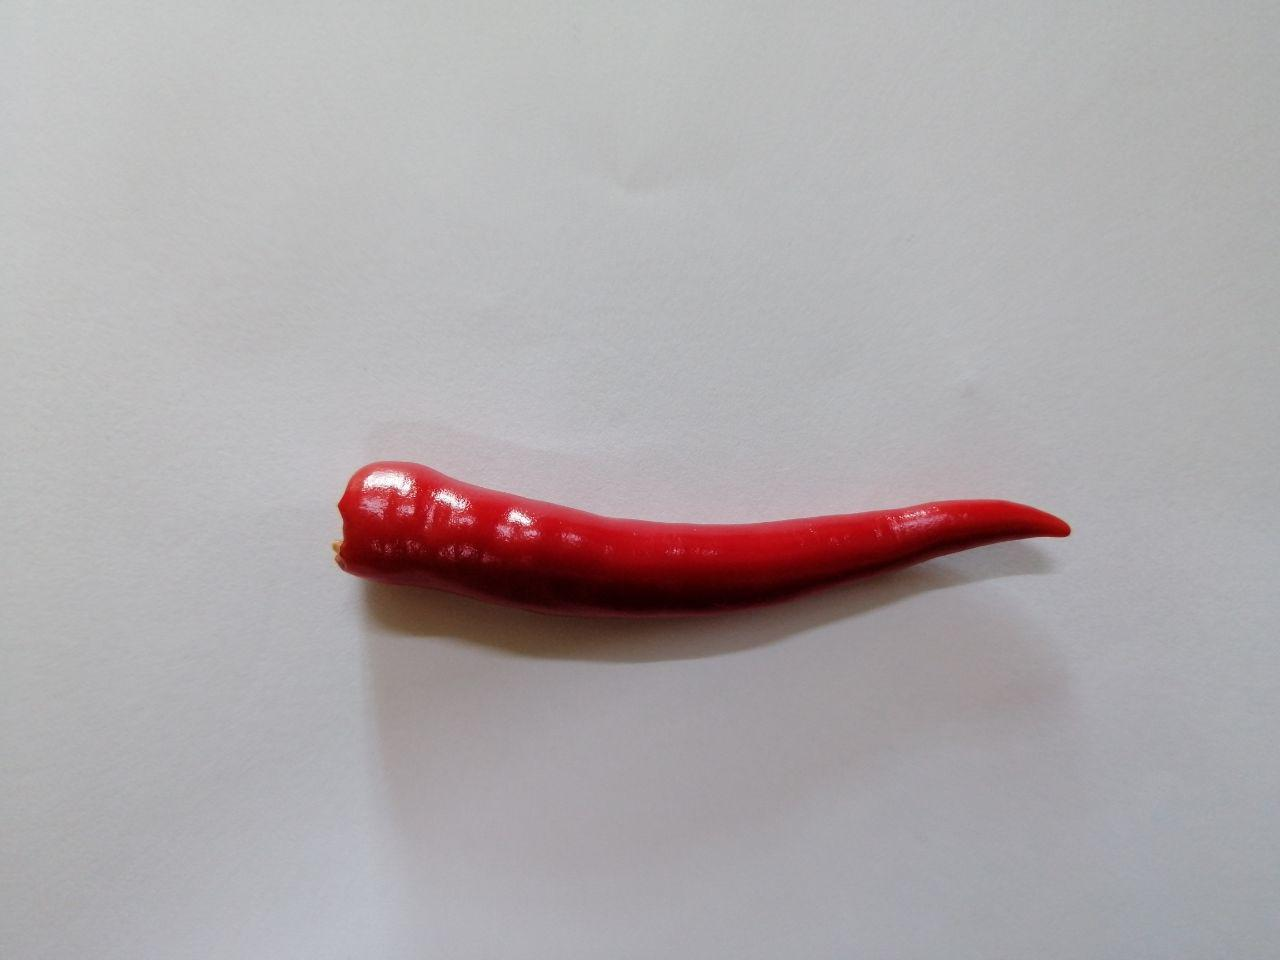lada merah: (309, 437, 1096, 636)
